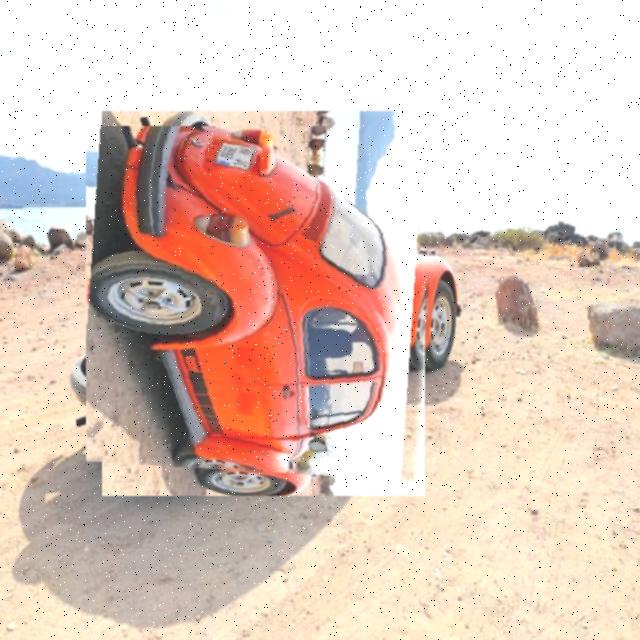car: (87, 127, 441, 482)
